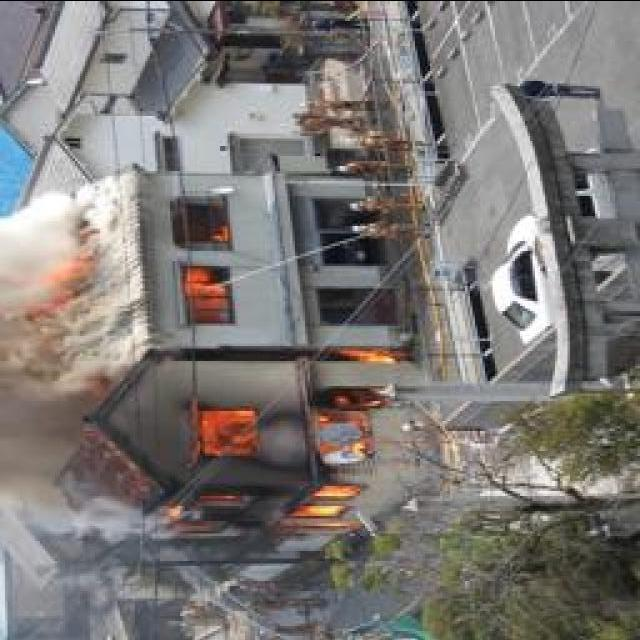Fire: (148, 336, 424, 548), (26, 218, 98, 356), (185, 188, 238, 322)
